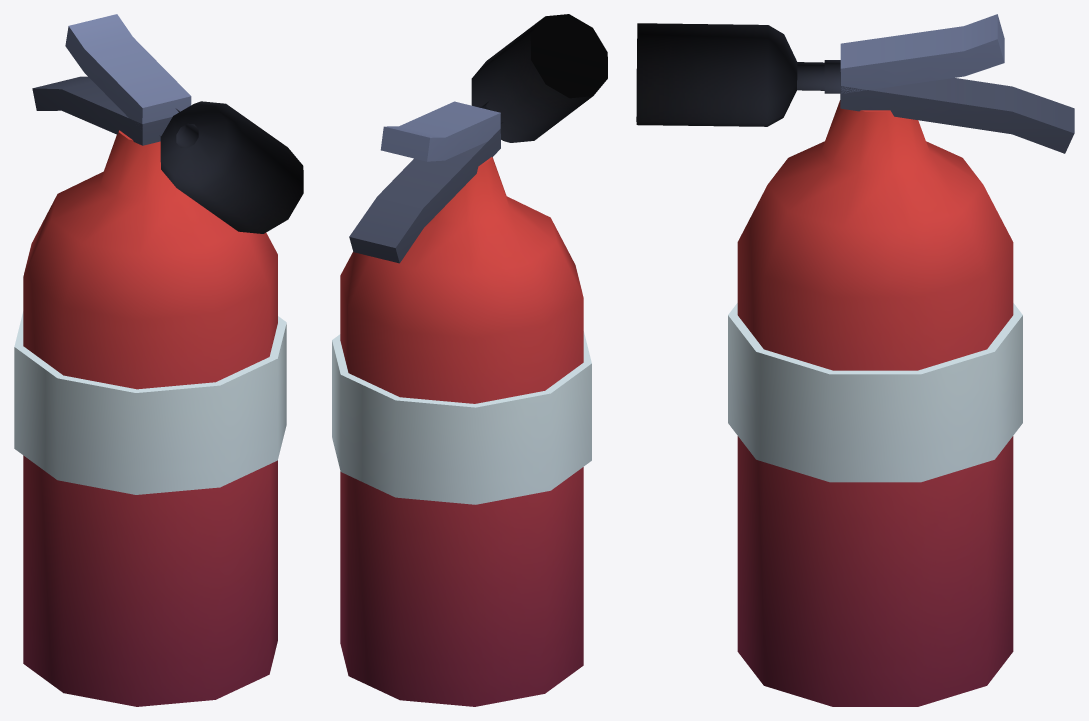
File: FireExtinguisher.fbx
3 views of the same model, side by side, from view 1: azimuth 30°, elevation 25°; view 2: azimuth 150°, elevation 25°; view 3: azimuth 270°, elevation 25° (orthographic). The views are drawn at different scales.
Visible parts, largest first — view 1: Extinguisher; view 2: Extinguisher; view 3: Extinguisher.
Boxes of the visible parts, left/top/right/bottom form: Extinguisher: left=14, top=14, right=303, bottom=706; Extinguisher: left=332, top=14, right=607, bottom=706; Extinguisher: left=636, top=14, right=1074, bottom=706.
Size of the model in its own units: 31.07 by 76.37 by 48.51.
